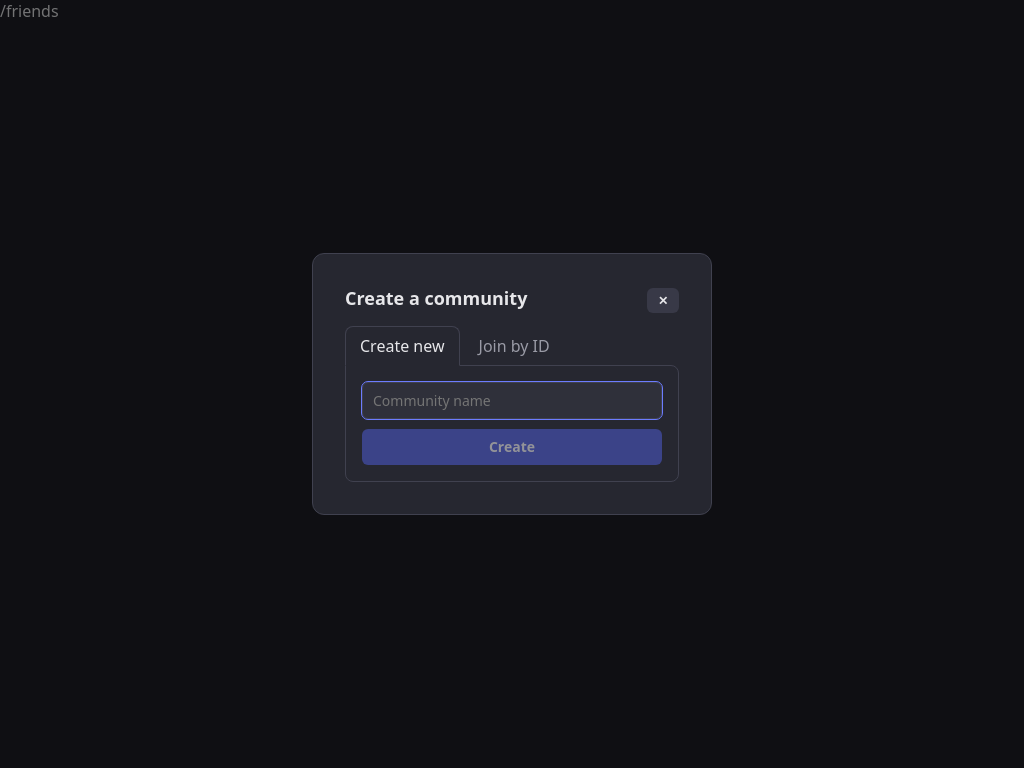
Test case: NewCommunityModal: joining by an invite code › can be tried again after a failure, with the error cleared
The image size is (1024, 768).
Click the tab "Join by ID": x=514, y=346 [464,326,565,366]
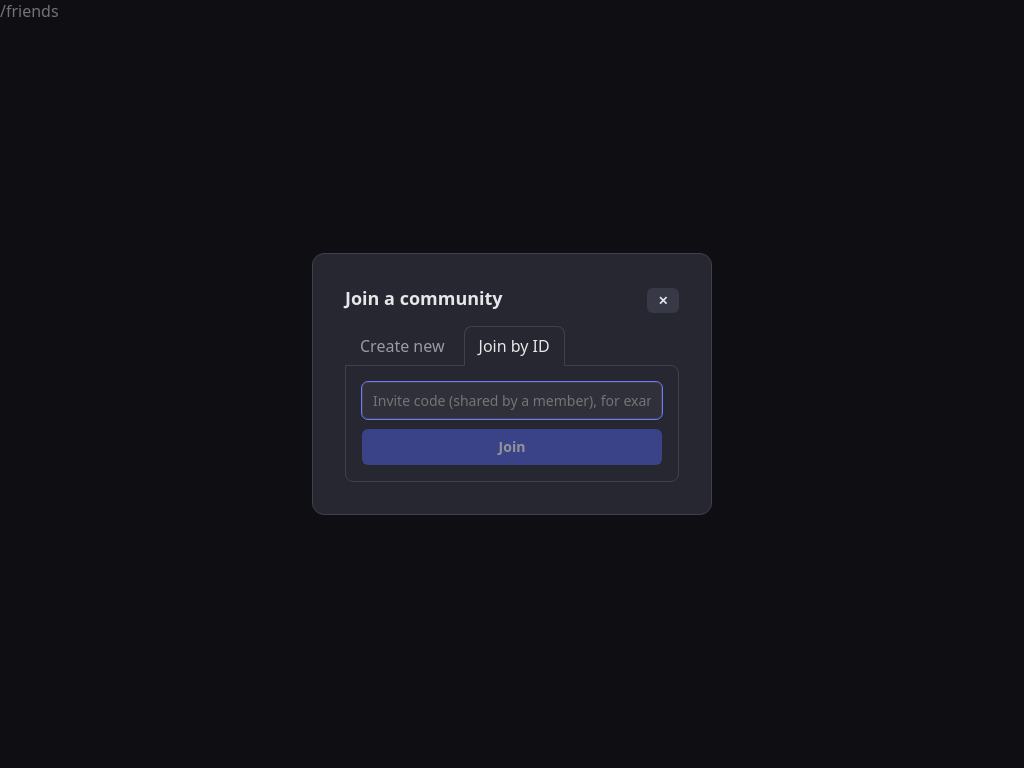
In the field with placeholder "Invite code": x=512, y=401 [362,382,662,419], type "01JABC:far.example#K7M2QXR9TB"
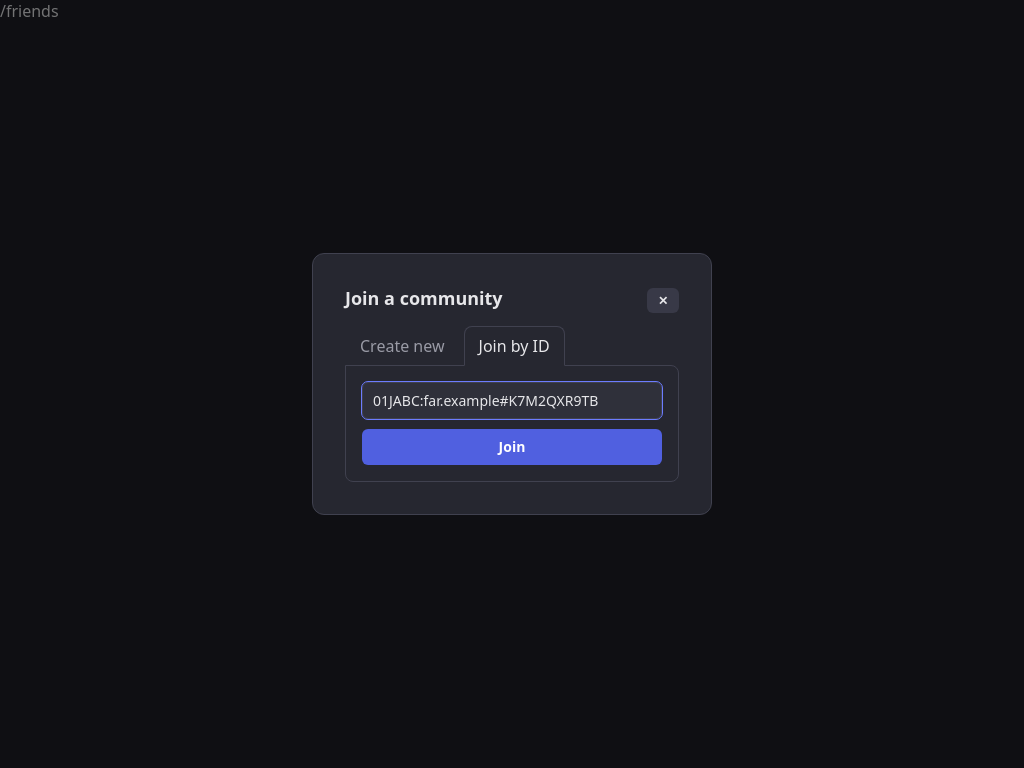
Click the button "Join": x=512, y=447 [362,429,662,465]
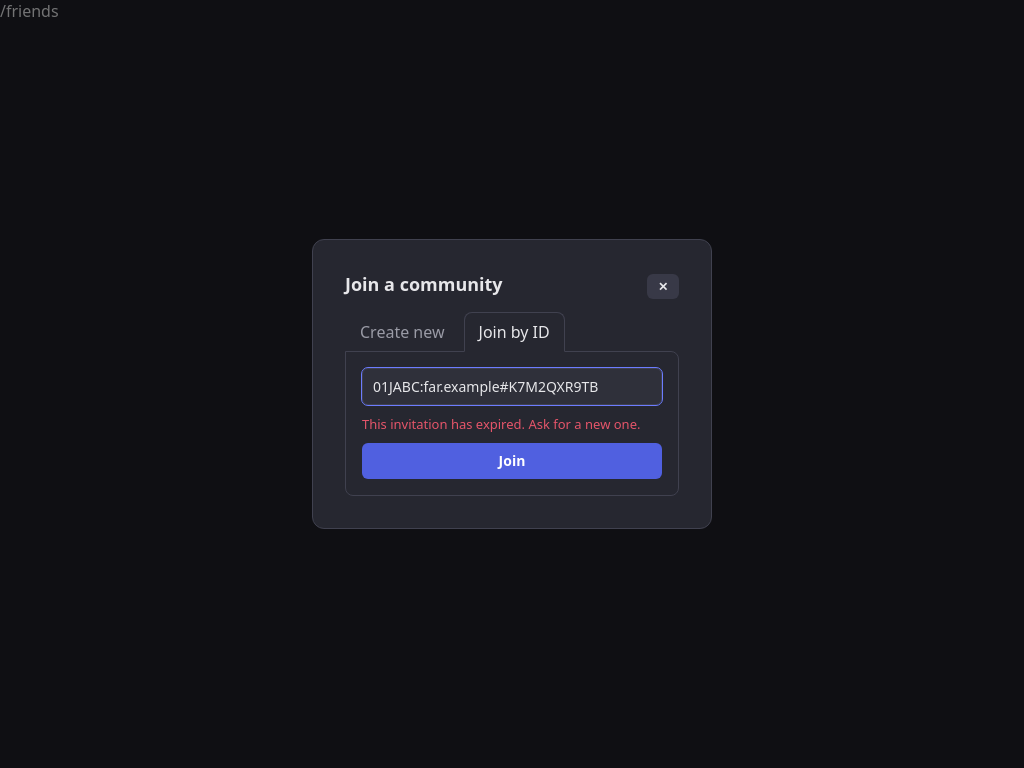
Expected: the text "This invitation has expired. Ask for a new one." is shown, [362,415,662,433]
Replace the text in the field with placeholder "Invite code" with "01JABC:far.example#NEWINVITE9": x=512, y=387 [362,368,662,405]
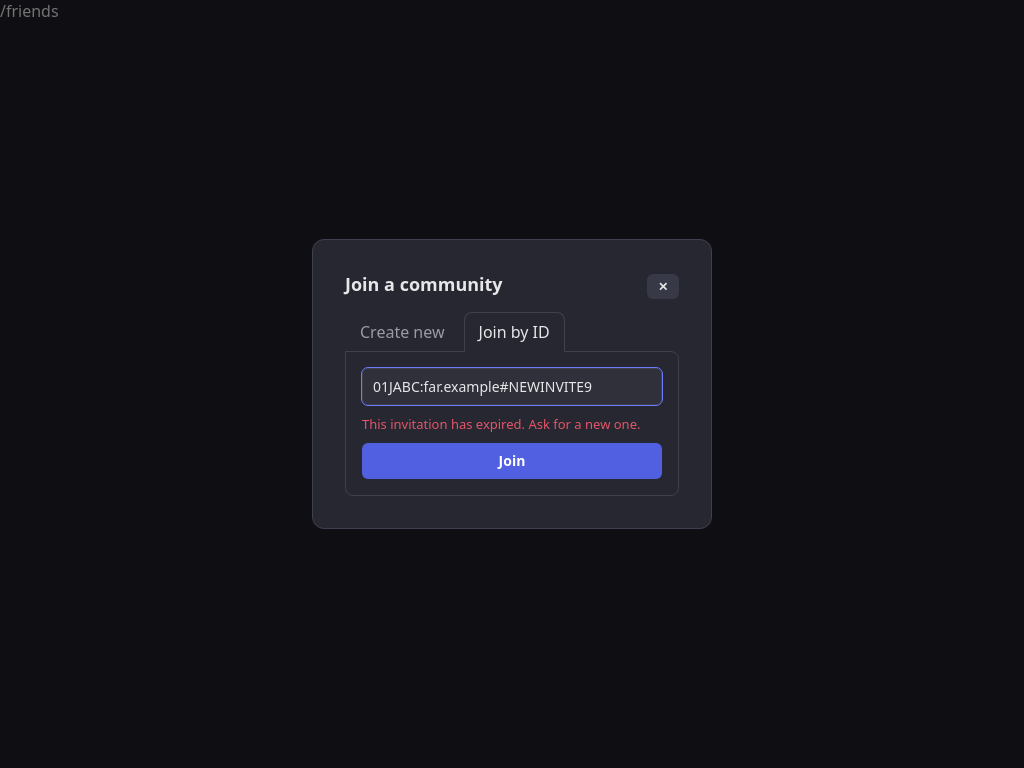
Click the button "Join": x=512, y=461 [362,443,662,479]
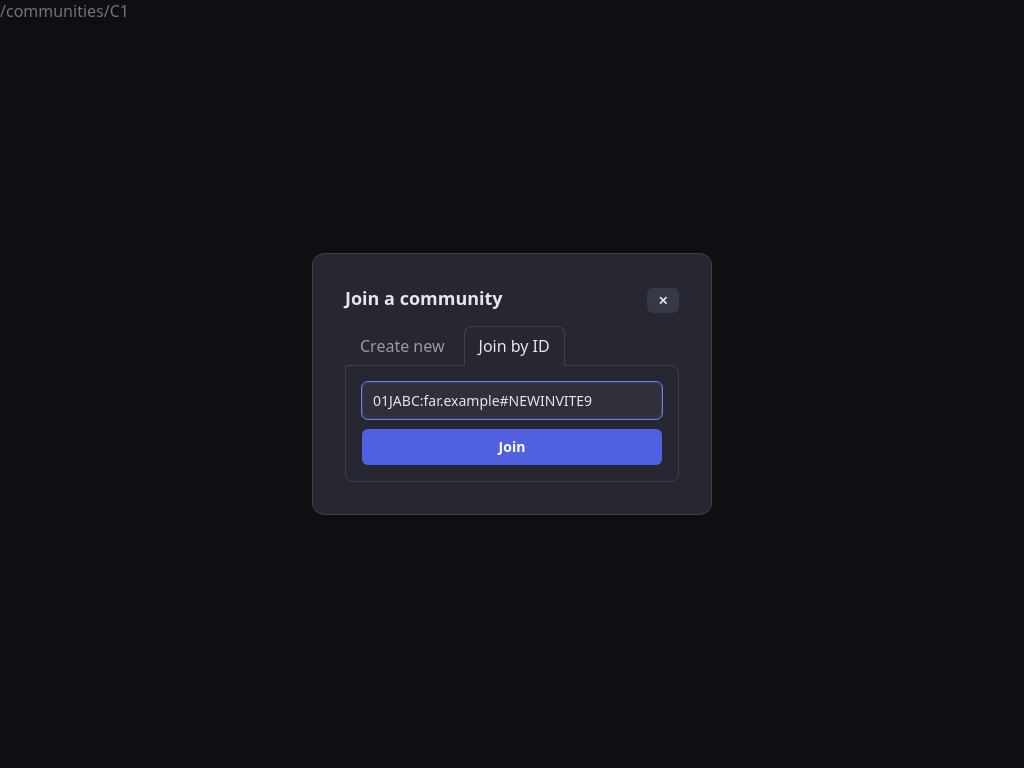
Expected: the text "has expired" is gone
